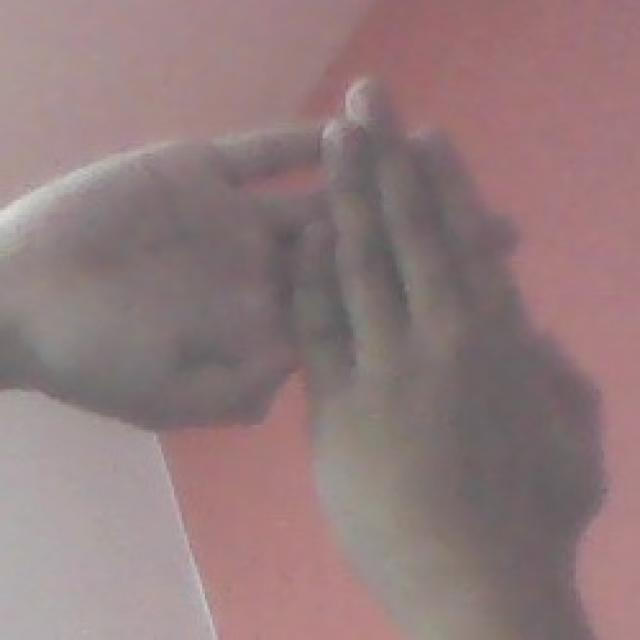Alphabet-H: (28, 67, 616, 601)
